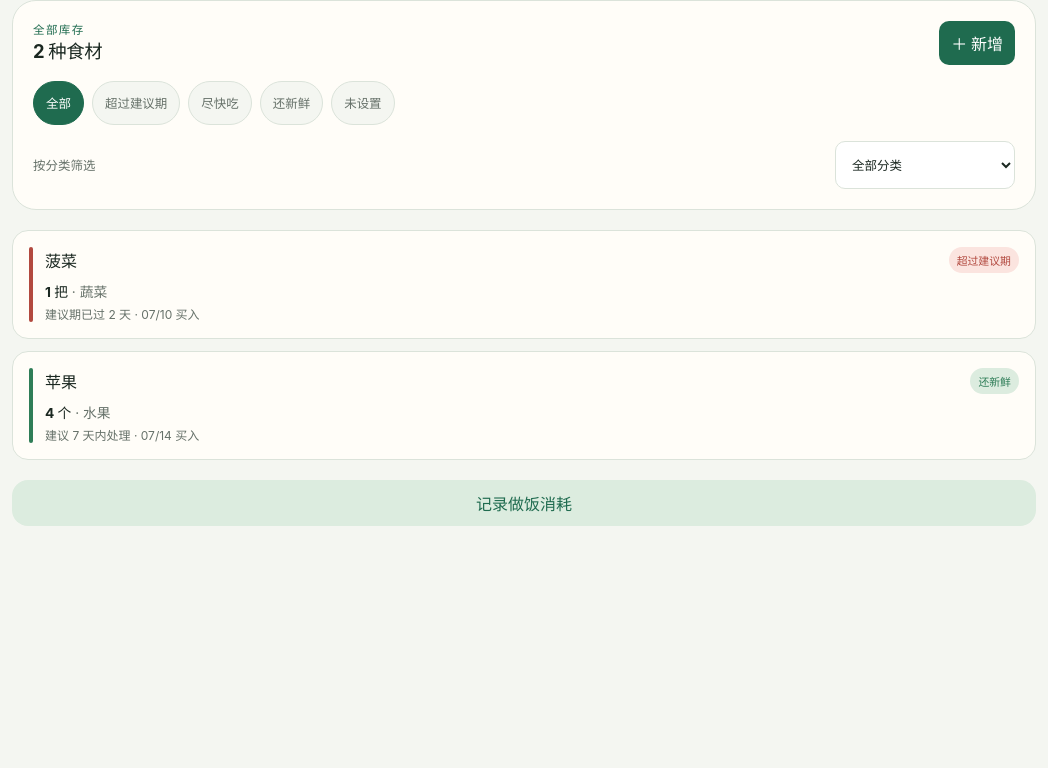
Test: InventoryView › 按保鲜状态和分类筛选库存
Click the button "超过建议期" at (136, 103), box x1=92 y1=81 x2=180 y2=125
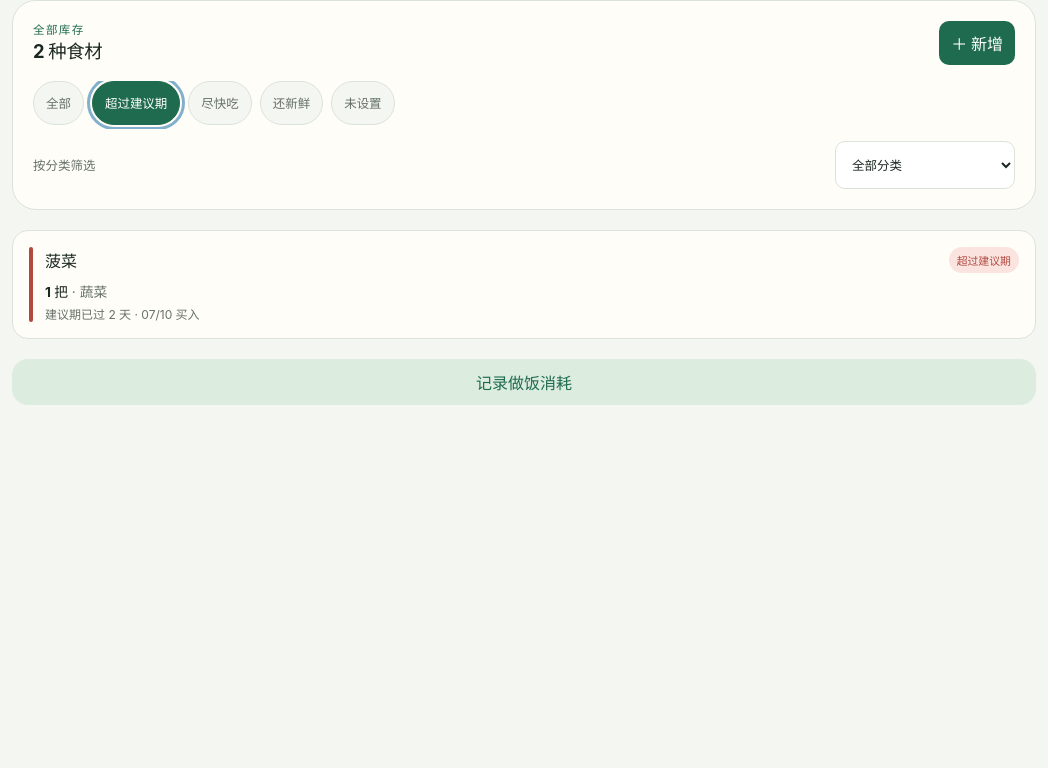
Check: the heading "菠菜" is shown, box x1=45 y1=248 x2=77 y2=272
Check: the heading "苹果" is gone
Click the button "全部" at (58, 103), box x1=33 y1=81 x2=84 y2=125
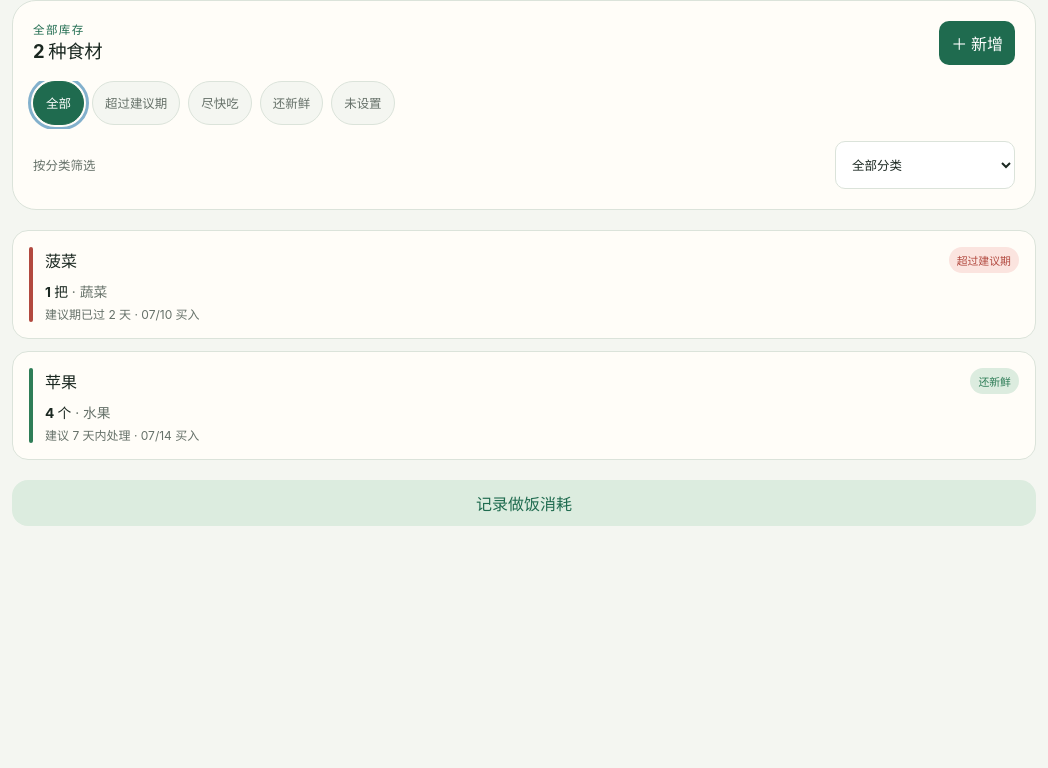
Select "水果" in the dropdown labelled "按分类筛选" at (925, 165), box x1=835 y1=141 x2=1015 y2=189
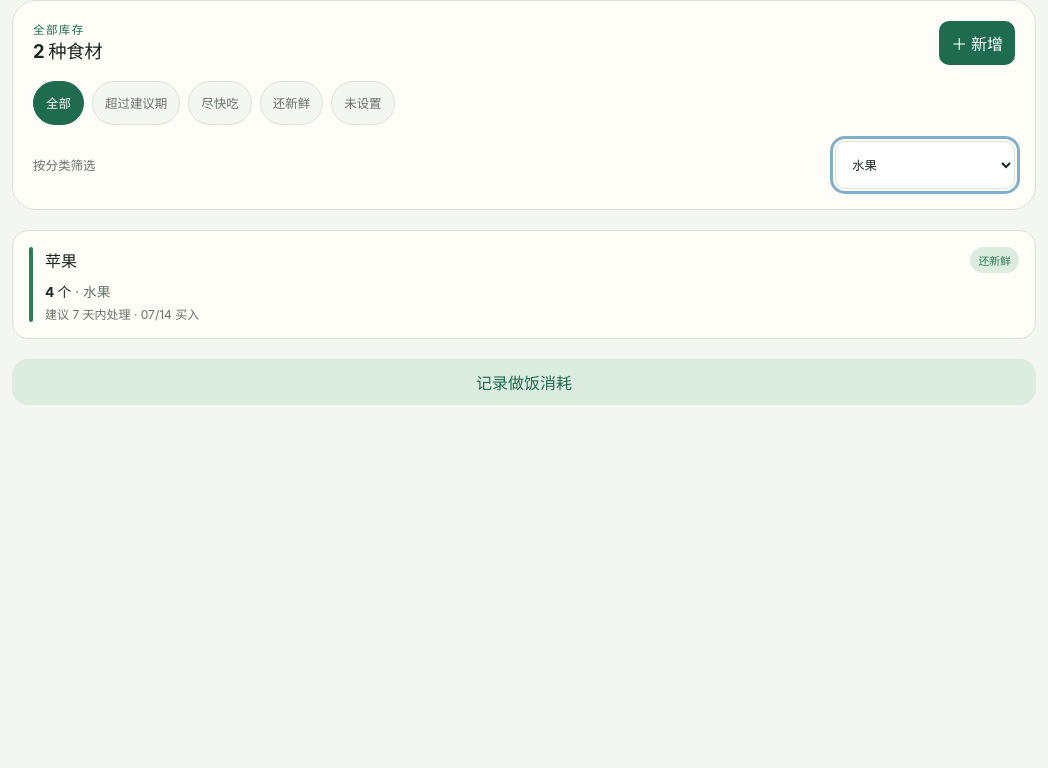
Check: the heading "苹果" is shown, box x1=45 y1=248 x2=77 y2=272
Check: the heading "菠菜" is gone
